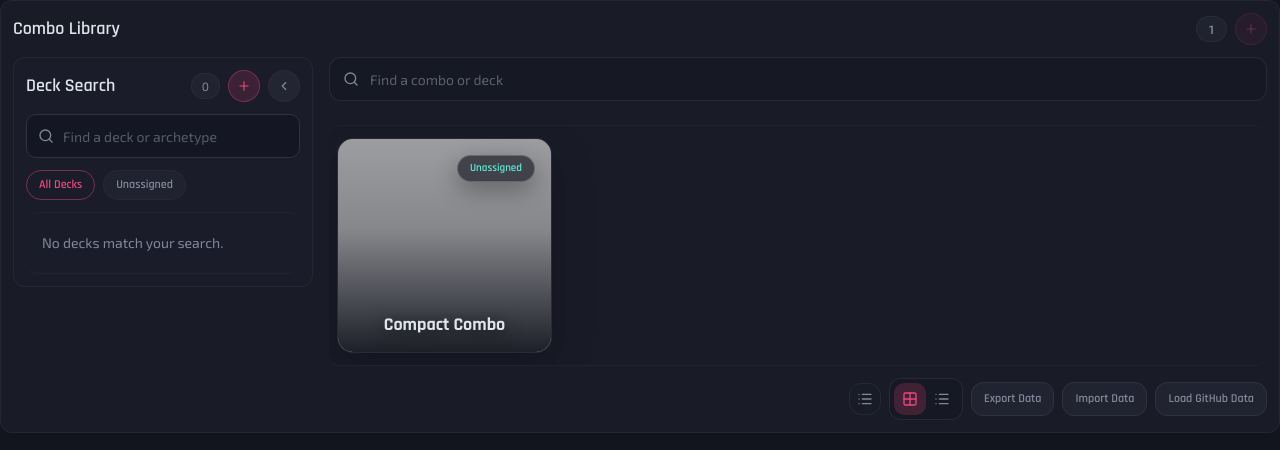
Test case: ComboLibrary view toggle › switches to a persistent compact list that loads combos by row
This screenshot has width=1280, height=450.
Later steps or results of the test are not shown.
Click the button named "Show compact list view": (942, 399) top-left (926, 383), bottom-right (958, 415)
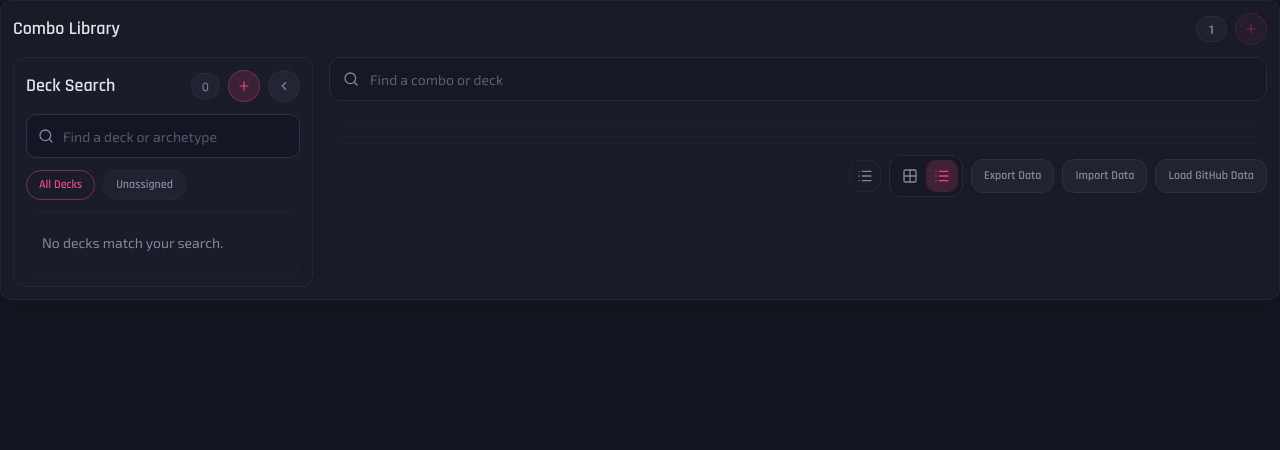
Result: the button named "Show compact list view" is pressed at top-left (926, 160), bottom-right (958, 192)
